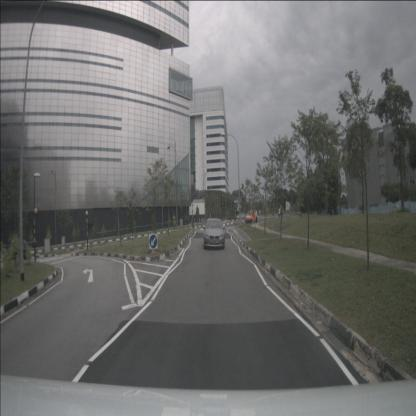human-pedestrian-adult: (280, 205, 284, 219), (256, 209, 258, 223), (278, 206, 280, 220)
vehicle-car: (204, 219, 225, 249), (246, 209, 257, 224)
